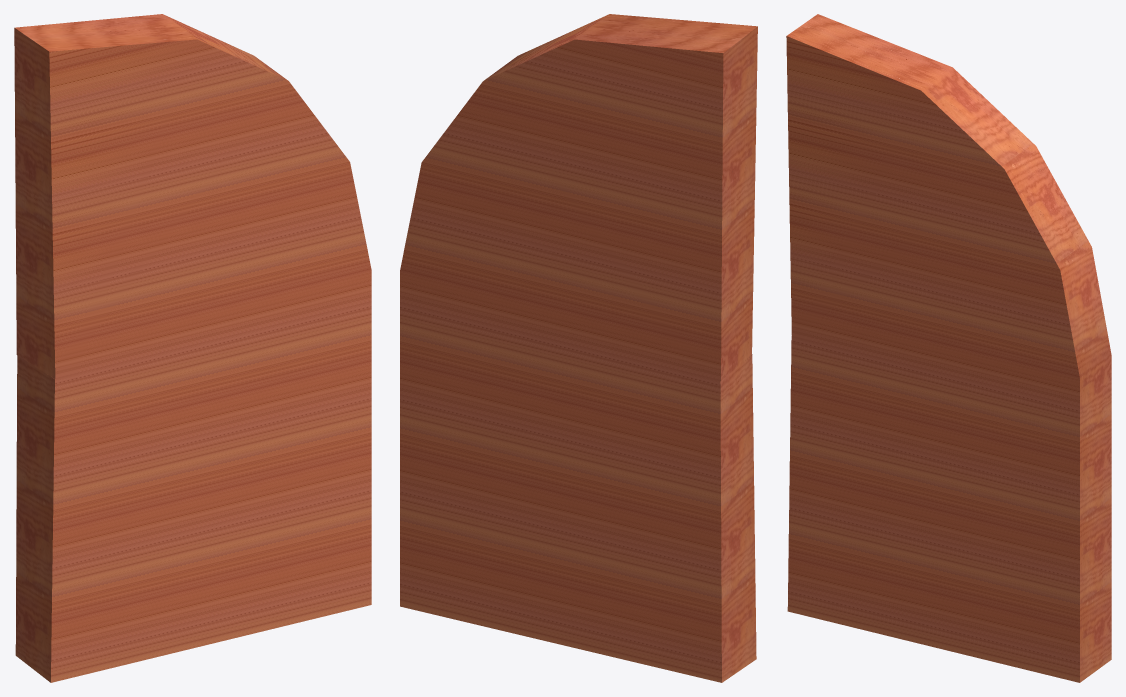
Rendered from p1Der.obj.
3 views of the same model, side by side, from view 1: azimuth 30°, elevation 25°; view 2: azimuth 150°, elevation 25°; view 3: azimuth 330°, elevation 25° (orthographic). The views are drawn at different scales.
Visible parts, largest first — view 1: p1Der:pCube81; view 2: p1Der:pCube81; view 3: p1Der:pCube81.
Part boxes in pixels (left/top/right/bottom): p1Der:pCube81: left=14, top=14, right=371, bottom=682; p1Der:pCube81: left=400, top=14, right=757, bottom=682; p1Der:pCube81: left=786, top=14, right=1111, bottom=682.
Bounding box in the file's own units: 2.68 × 5.01 × 0.5.
1 material, 1 textured.
